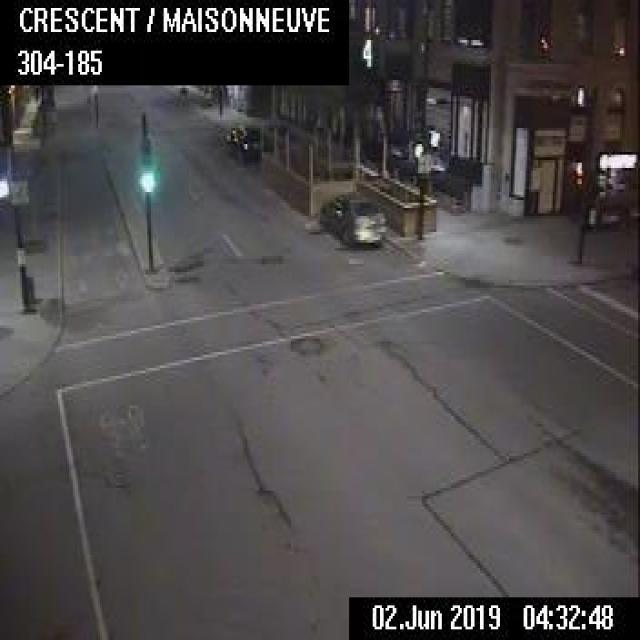vehicle: (324, 187, 386, 245), (223, 120, 273, 160)
